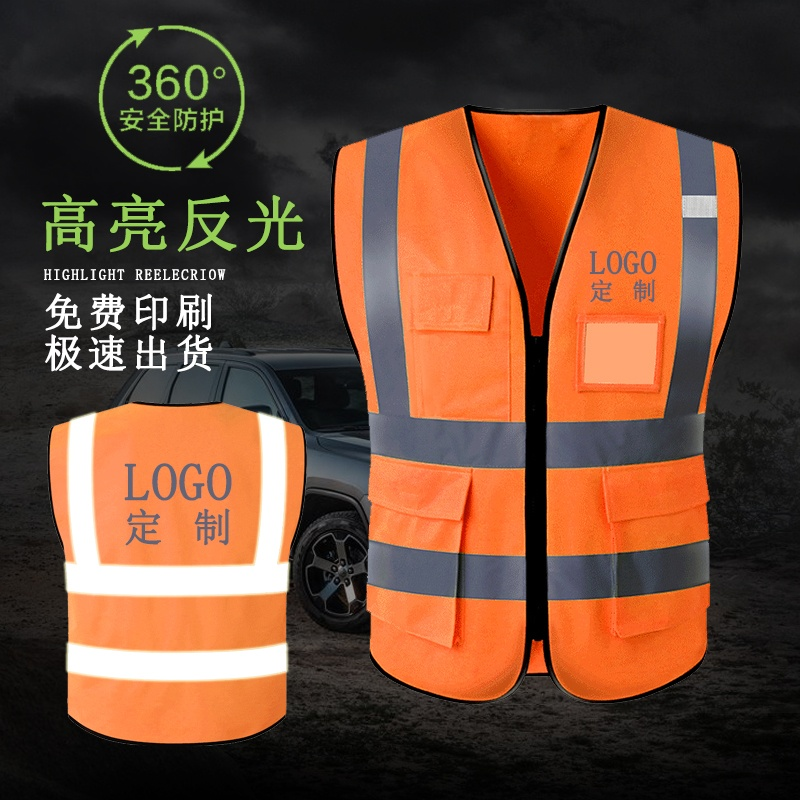safety vest: (336, 96, 740, 701), (48, 398, 293, 746)
